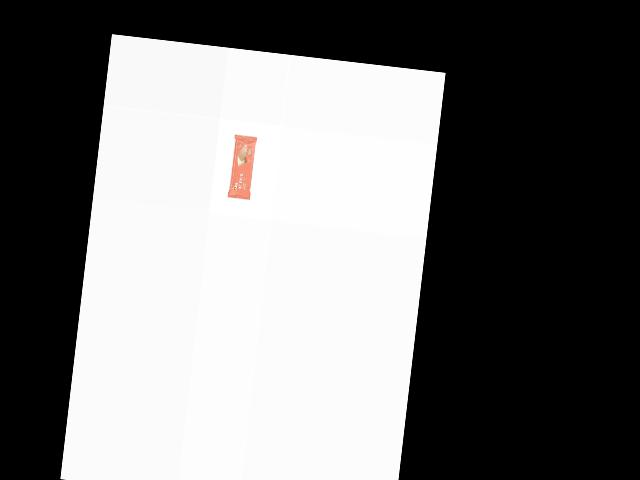chocolate: (227, 134, 257, 202)
